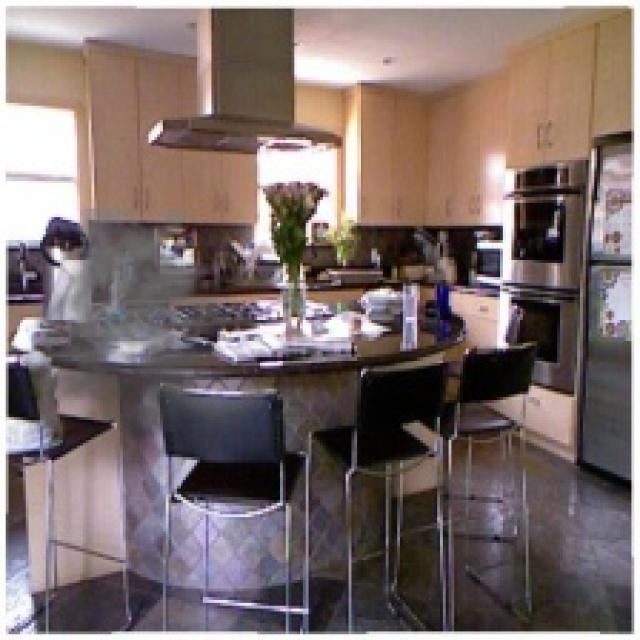smoke: (23, 209, 248, 437)
